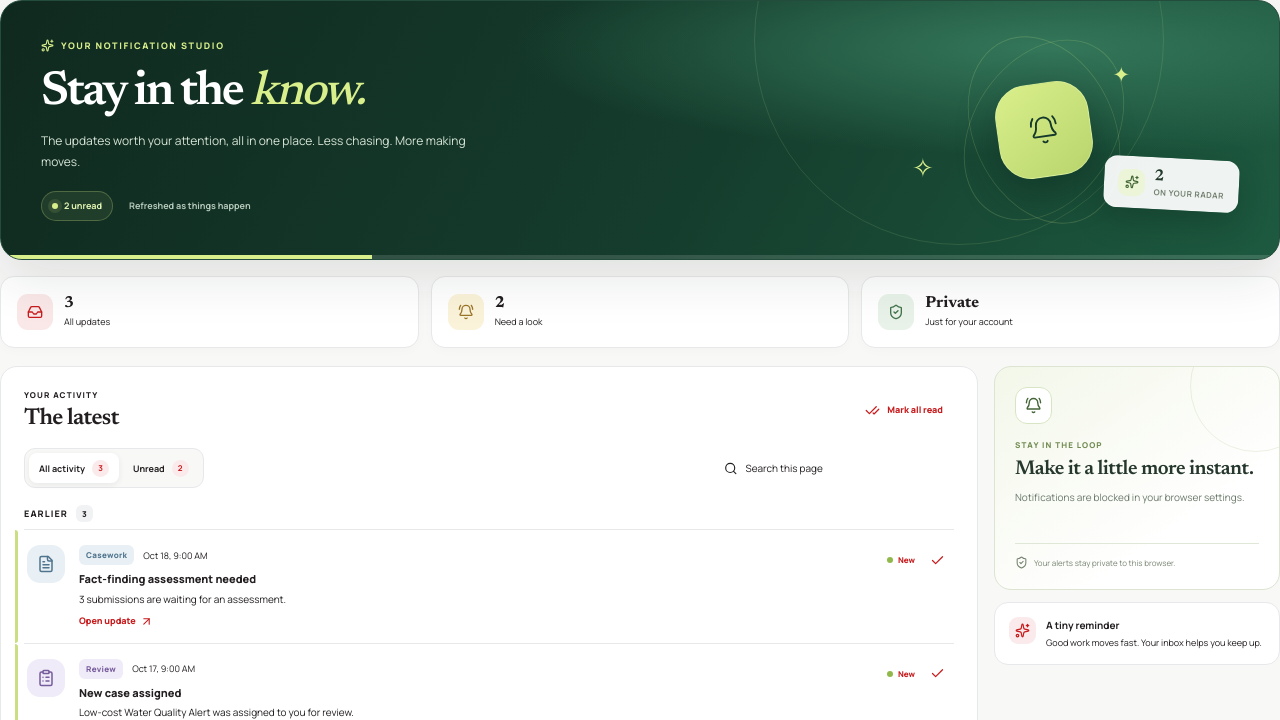
Scenario: NotificationsPage › marks all notifications read
The image size is (1280, 720).
Click the button "Mark all read" at coordinates (904, 410), box [854,393,954,427]
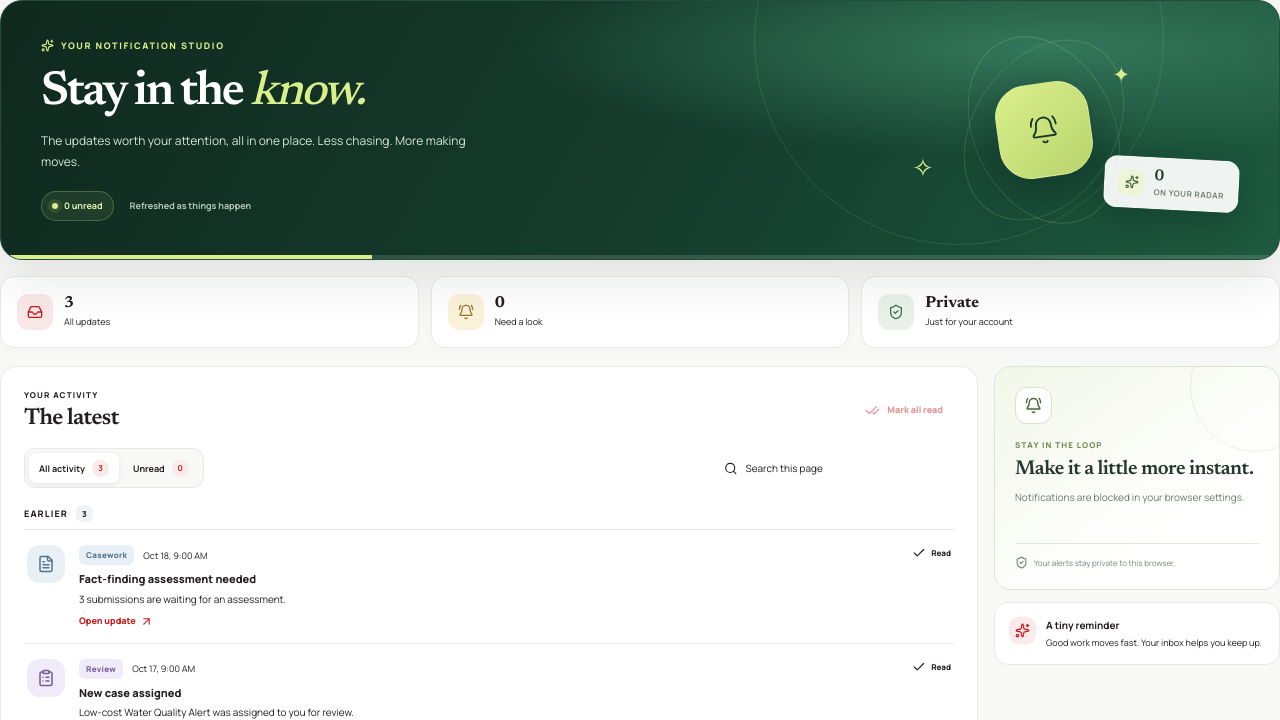
Now the text "0 unread" is shown, box [41,192,114,221]
Now the button "Mark all read" is disabled, box [854,393,954,427]
